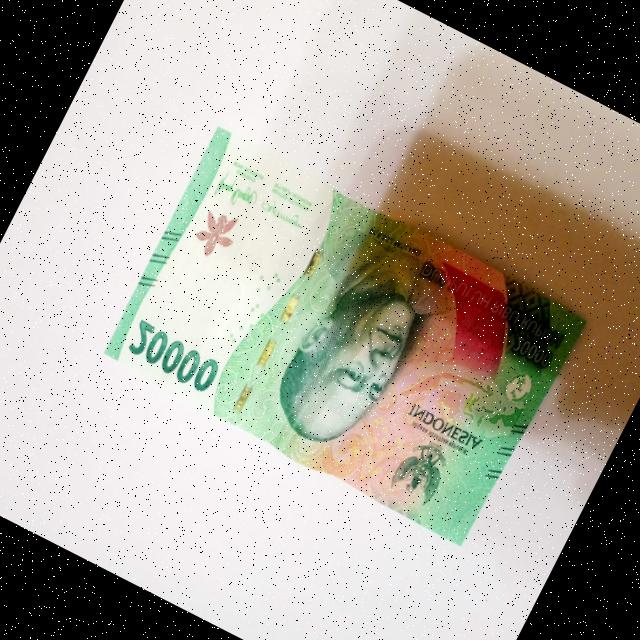20K: (87, 113, 601, 562)
